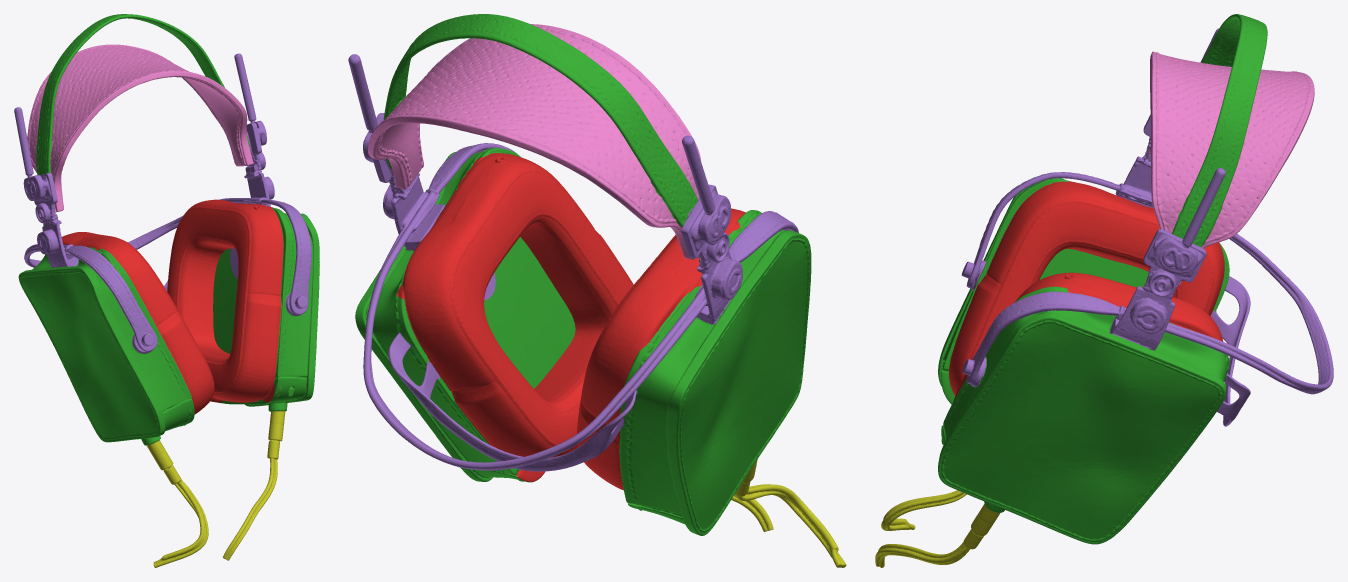
File: Meshy_AI_Vintage Leather Headphones_1784830641_part-segmentation.glb
The picture shows the model from 3 angles, left to right: view 1: azimuth 30°, elevation 25°; view 2: azimuth 150°, elevation 25°; view 3: azimuth 270°, elevation 25°; orthographic projection. The views are drawn at different scales.
Visible parts, largest first — view 1: model_part10, model_part8, model_part12, model_part11, model_part9, model_part7, model_part6, model_part0, model_part1; view 2: model_part8, model_part10, model_part11, model_part12, model_part9, model_part6, model_part7, model_part5, model_part0; view 3: model_part9, model_part11, model_part12, model_part7, model_part6, model_part10, model_part8, model_part5, model_part1, model_part0.
Boxes of the visible parts, x1=… form: model_part10: x1=18, y1=247, x2=194, y2=445; model_part8: x1=167, y1=199, x2=283, y2=402; model_part12: x1=14, y1=53, x2=311, y2=353; model_part11: x1=27, y1=44, x2=254, y2=212; model_part9: x1=213, y1=207, x2=319, y2=411; model_part7: x1=61, y1=232, x2=214, y2=414; model_part6: x1=36, y1=14, x2=251, y2=175; model_part0: x1=146, y1=440, x2=208, y2=567; model_part1: x1=223, y1=410, x2=285, y2=560; model_part8: x1=396, y1=153, x2=633, y2=481; model_part10: x1=619, y1=210, x2=811, y2=535; model_part11: x1=368, y1=24, x2=701, y2=259; model_part12: x1=348, y1=54, x2=798, y2=470; model_part9: x1=355, y1=148, x2=575, y2=482; model_part6: x1=383, y1=14, x2=698, y2=227; model_part7: x1=577, y1=208, x2=745, y2=490; model_part5: x1=388, y1=332, x2=637, y2=471; model_part0: x1=734, y1=459, x2=846, y2=567; model_part9: x1=938, y1=286, x2=1229, y2=544; model_part11: x1=1149, y1=51, x2=1314, y2=285; model_part12: x1=961, y1=28, x2=1333, y2=394; model_part7: x1=949, y1=181, x2=1224, y2=395; model_part6: x1=1172, y1=14, x2=1267, y2=247; model_part10: x1=938, y1=178, x2=1229, y2=404; model_part8: x1=953, y1=272, x2=1223, y2=401; model_part5: x1=1210, y1=276, x2=1250, y2=426; model_part1: x1=875, y1=503, x2=1000, y2=567; model_part0: x1=881, y1=490, x2=966, y2=530.
Bounding box in the file's own units: 0.0669 × 0.12 × 0.0882.
